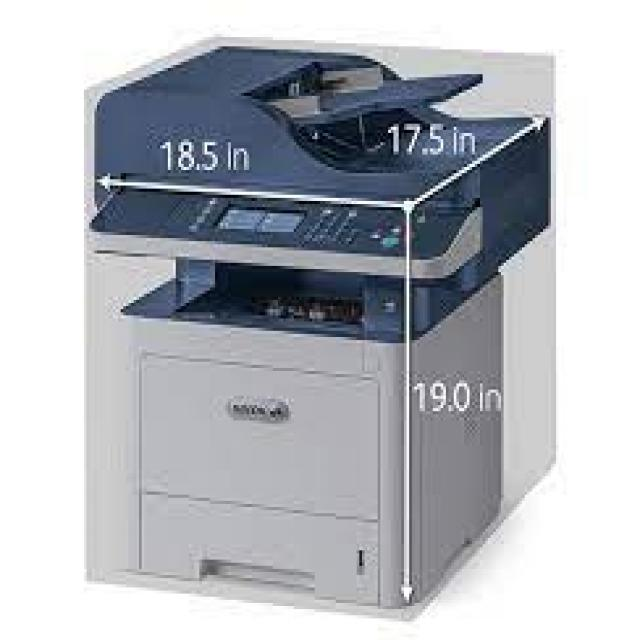printer: (64, 14, 579, 635)
